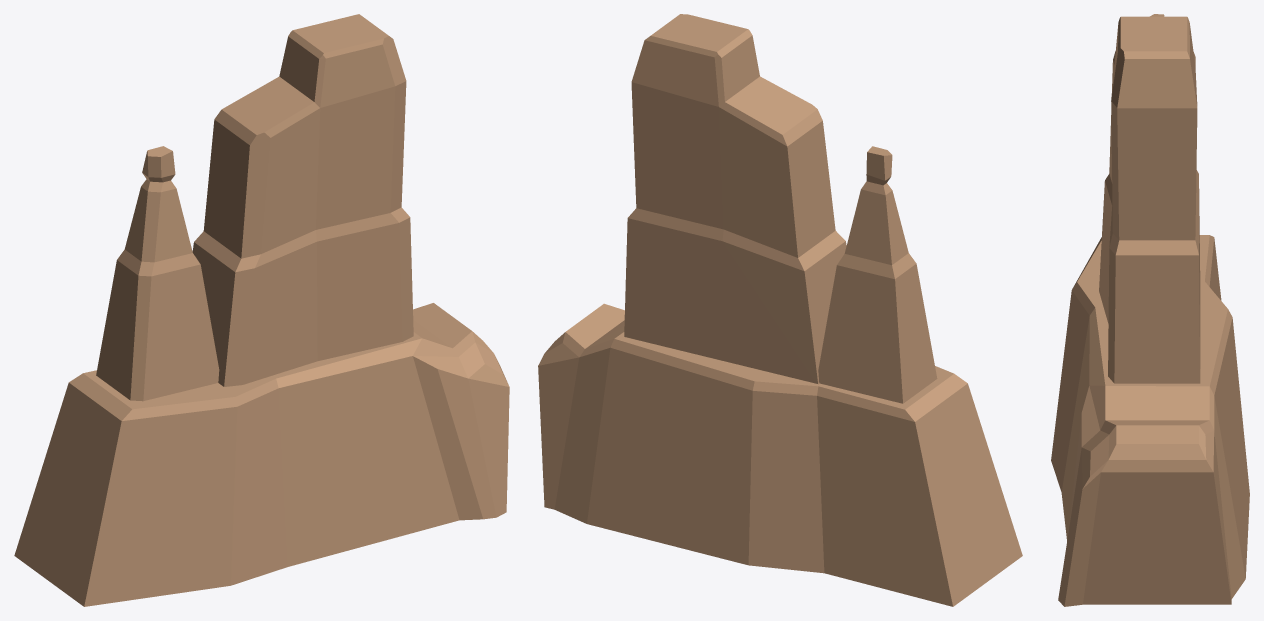
The model's file is big_rock_3.fbx.
3 renders of one model, left to right at view 1: azimuth 30°, elevation 25°; view 2: azimuth 150°, elevation 25°; view 3: azimuth 270°, elevation 25°, orthographic. The views are drawn at different scales.
Visible parts, largest first — view 1: Cube.002; view 2: Cube.002; view 3: Cube.002.
Part boxes in pixels (<box>): Cube.002: <box>14,14,509,606</box>; Cube.002: <box>538,14,1022,606</box>; Cube.002: <box>1051,14,1249,606</box>.
Size of the model in its own units: 0.9774 by 1.05 by 0.3718.
